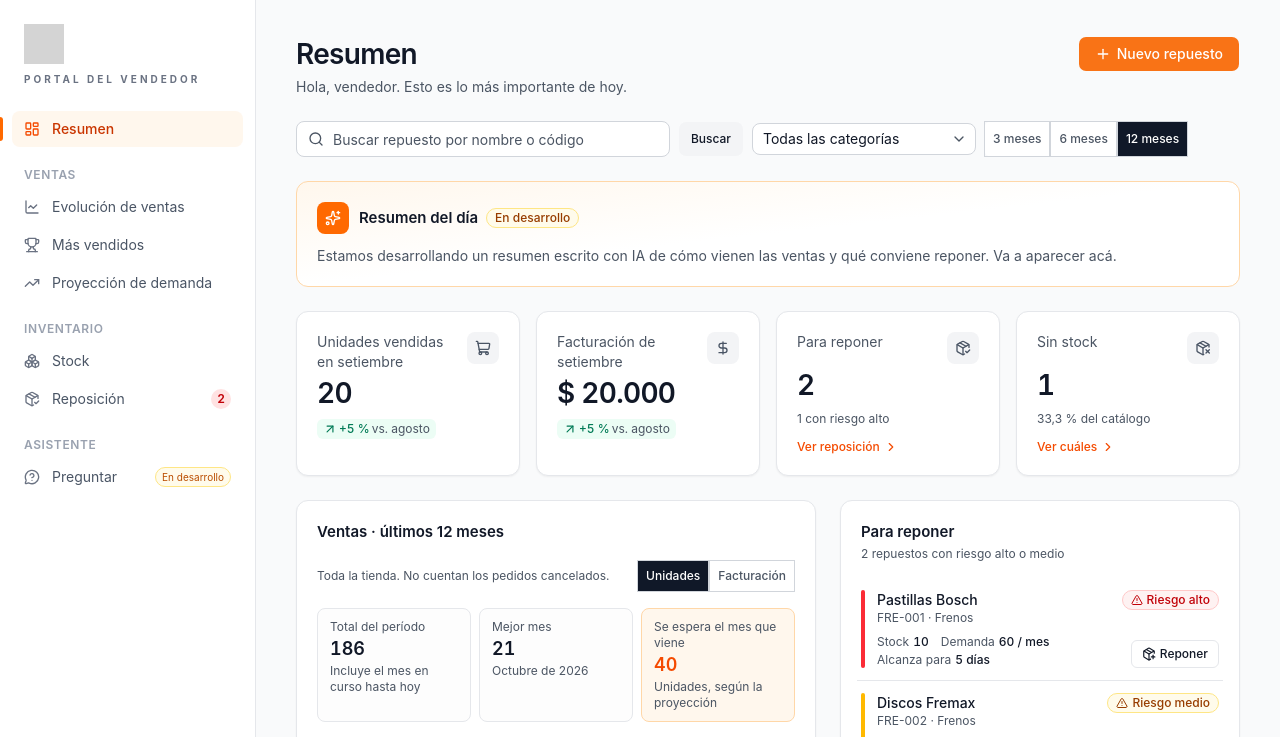
Test case: filtros (HU 5.9) › filters the sales by the last 3 months
Step 1. Click the button with aria-label "Últimos 3 meses" → click(1017, 139), box [984,121,1050,157]
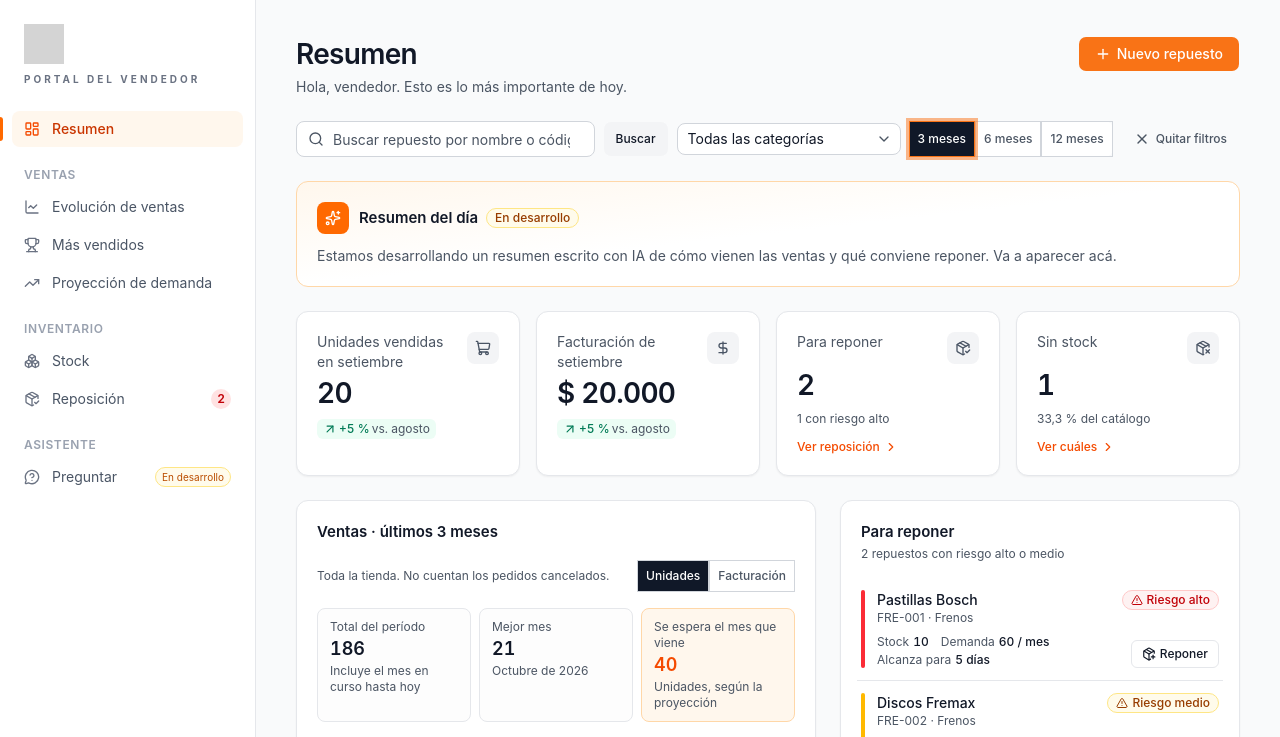
Expected: the heading "Ventas · últimos 3 meses" is shown, [317,521,498,544]
